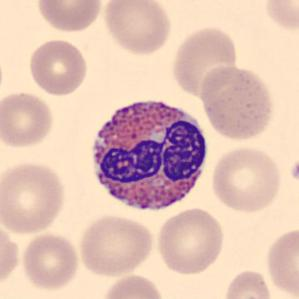Eosinophil: (82, 89, 215, 221)
Platelets: (288, 157, 299, 186)
RBC: (198, 64, 276, 144), (0, 158, 68, 237), (169, 24, 240, 99), (153, 205, 227, 276), (208, 144, 283, 214), (77, 212, 156, 278), (101, 0, 174, 57), (26, 37, 90, 97), (20, 231, 81, 292), (0, 89, 56, 151), (262, 225, 298, 297), (34, 0, 105, 34), (100, 272, 168, 299), (220, 267, 274, 299), (0, 218, 22, 290), (261, 0, 298, 35)
